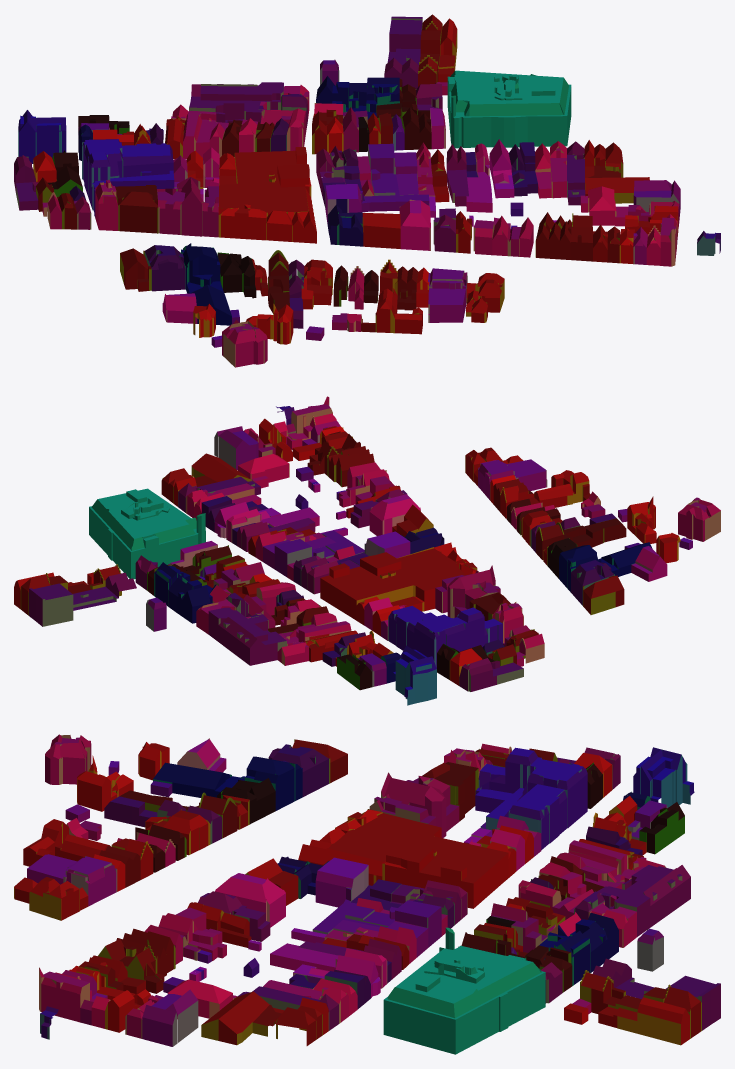
The model's file is buildings_8_10.glb.
3 renders of one model, top to bottom at view 1: azimuth 30°, elevation 25°; view 2: azimuth 150°, elevation 25°; view 3: azimuth 270°, elevation 25°, orthographic. The views are drawn at different scales.
Parts seen in each view (by area): view 1: buildings_8_10; view 2: buildings_8_10; view 3: buildings_8_10.
Part boxes in pixels (left/top/right/bottom): buildings_8_10: left=14, top=14, right=720, bottom=367; buildings_8_10: left=14, top=396, right=720, bottom=705; buildings_8_10: left=14, top=734, right=720, bottom=1054.
Bounding box in the file's own units: 221 × 20.71 × 227.
